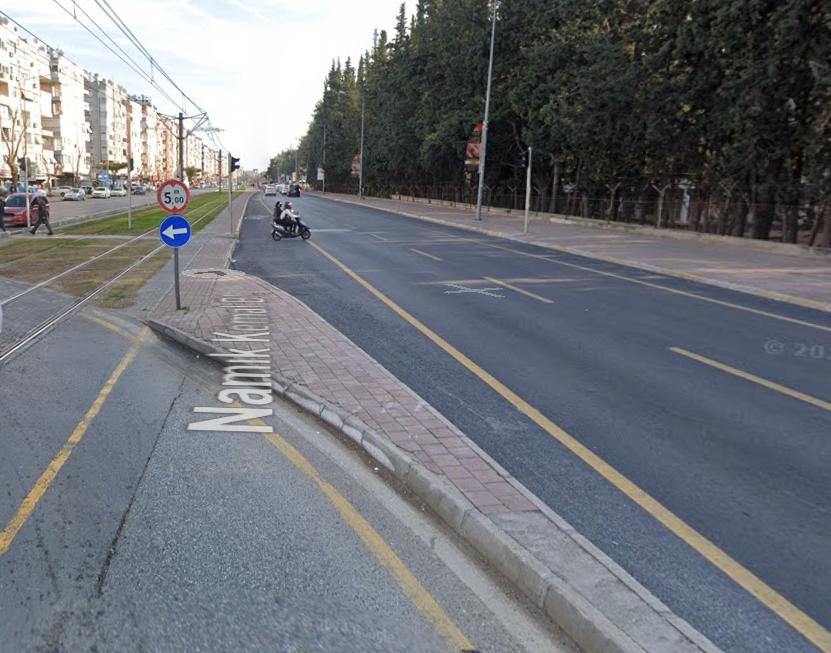turnleft: (159, 217, 191, 247)
